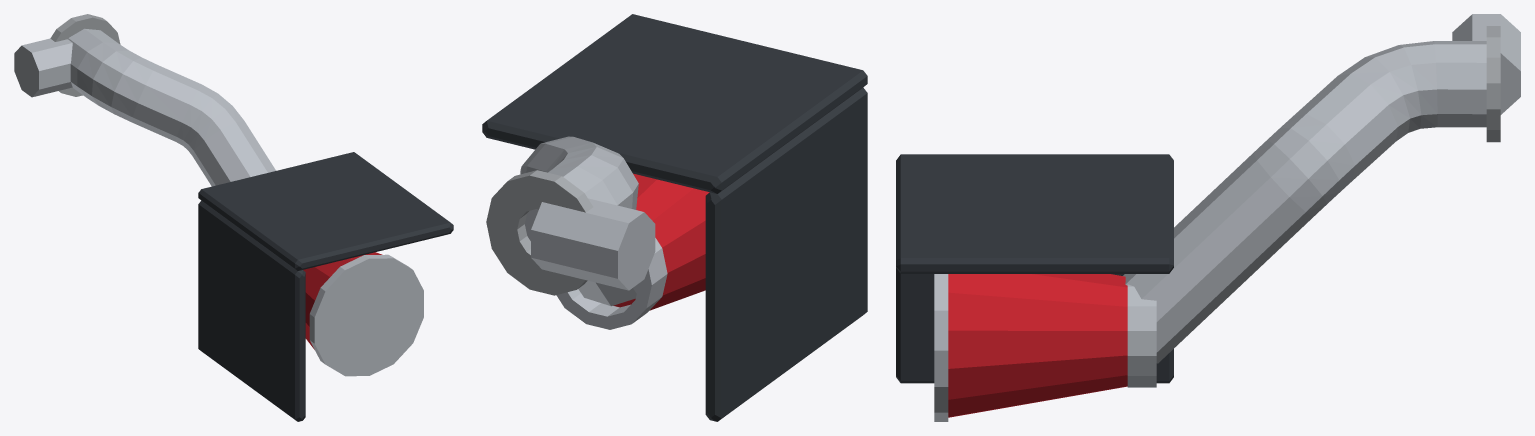
The model's file is strada_evo.glb.
3 renders of one model, left to right at view 1: azimuth 30°, elevation 25°; view 2: azimuth 150°, elevation 25°; view 3: azimuth 270°, elevation 25°, orthographic. The views are drawn at different scales.
Parts seen in each view (by area): view 1: model; view 2: model; view 3: model.
Boxes of the visible parts, x1,y1,x2,y2 form: model: [14, 14, 453, 421]; model: [482, 14, 867, 421]; model: [896, 14, 1520, 421].
Size of the model in its own units: 0.3 by 0.33 by 0.5396.
2 materials, 1 textured.
